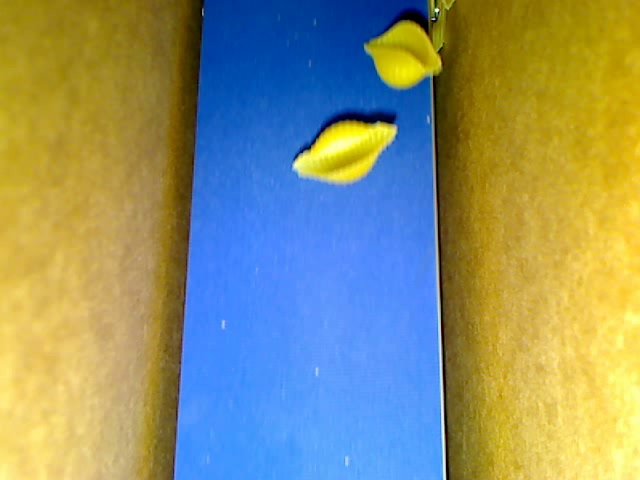penne: (431, 1, 449, 54), (440, 1, 458, 14)
shell: (288, 118, 399, 189), (362, 18, 444, 93)
